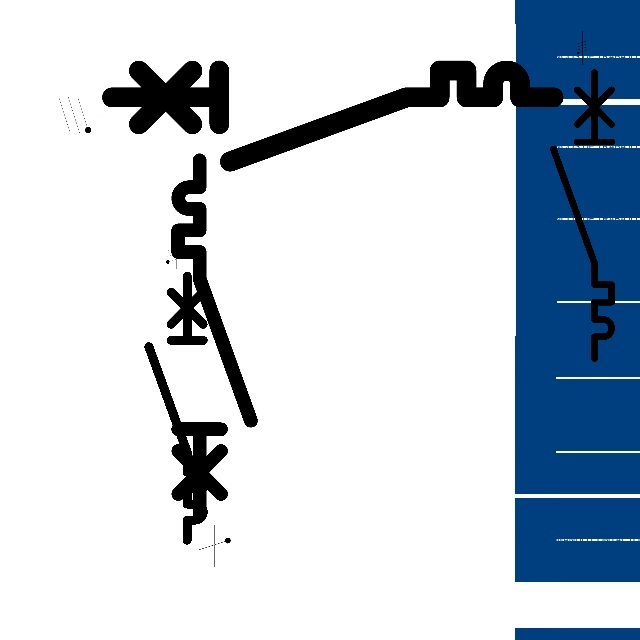interruptor_termomagnetico: (100, 59, 564, 172), (169, 151, 260, 525), (546, 65, 619, 366), (142, 269, 210, 547)
